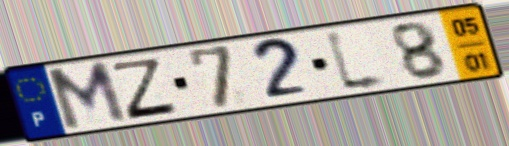2: (249, 36, 321, 107)
7: (183, 44, 238, 112)
8: (389, 20, 448, 81)
L: (321, 25, 395, 96)
M: (43, 58, 133, 134)
Z: (109, 56, 182, 122)
